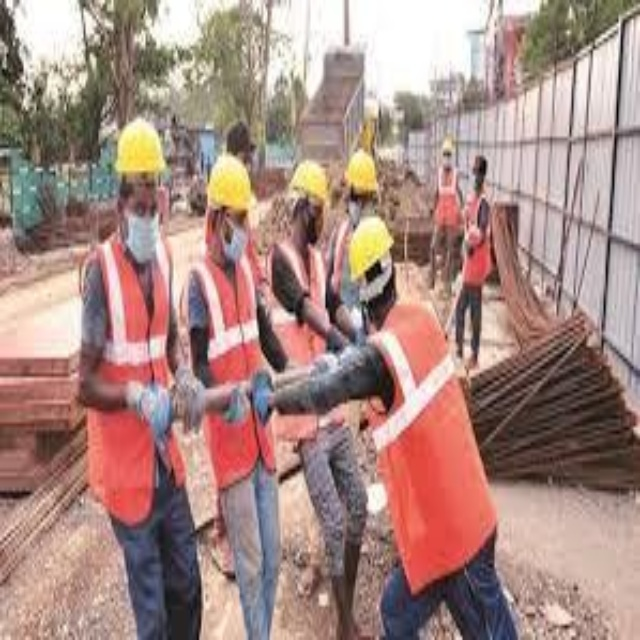Guantes: (137, 374, 175, 431)
